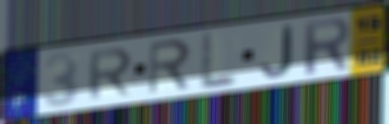3: (42, 50, 80, 109)
J: (259, 23, 294, 79)
L: (198, 31, 241, 92)
R: (301, 15, 353, 77), (147, 37, 193, 97), (86, 46, 135, 102)
